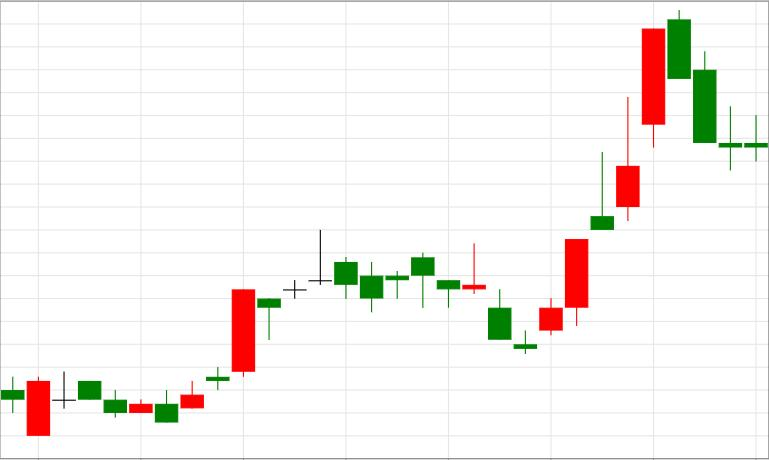morning_star_rise: (411, 243, 563, 354)
shooting_star_fall: (539, 98, 640, 336)
